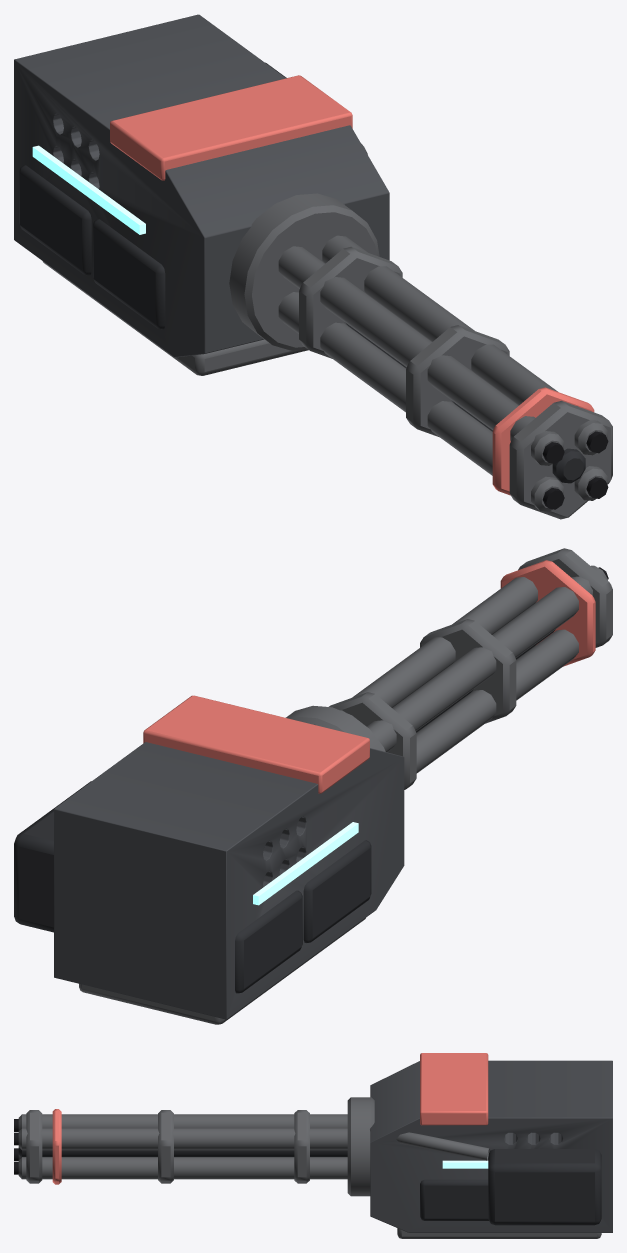
Rendered from vulcanPod.glb.
3 views of the same model, one above another, from view 1: azimuth 30°, elevation 25°; view 2: azimuth 150°, elevation 25°; view 3: azimuth 270°, elevation 25° (orthographic). The views are drawn at different scales.
Parts seen in each view (by area): view 1: housing, stripe.004, collar.001, barrel.014, barrel.015, barrel.013, clamp.006, plate.038, plate.040, clamp.004, clamp.005, clampBand.001 (+3 smaller); view 2: housing, stripe.004, barrel.014, barrel.015, barrel.013, plate.040, ammoBox, plate.038, clamp.005, clampBand.001, clamp.004, clamp.006 (+3 smaller); view 3: housing, ammoBox, barrel.013, barrel.016, stripe.004, barrel.014, plate.041, collar.001, hub.002, base, hose.006, clamp.006 (+4 smaller).
Boxes of the visible parts, <box> form: housing: <box>14,14,389,357</box>; stripe.004: <box>110,75,352,180</box>; collar.001: <box>229,193,379,350</box>; barrel.014: <box>278,246,563,465</box>; barrel.015: <box>278,292,563,511</box>; barrel.013: <box>322,235,607,455</box>; clamp.006: <box>509,400,612,519</box>; plate.038: <box>19,165,91,275</box>; plate.040: <box>93,219,165,329</box>; clamp.004: <box>299,246,402,358</box>; clamp.005: <box>406,325,509,437</box>; clampBand.001: <box>492,387,594,495</box>; housing: <box>54,742,404,1019</box>; stripe.004: <box>143,695,369,793</box>; barrel.014: <box>367,565,607,752</box>; barrel.015: <box>416,629,578,773</box>; barrel.013: <box>340,577,537,712</box>; plate.040: <box>303,840,371,943</box>; ammoBox: <box>14,781,91,932</box>; plate.038: <box>235,890,302,993</box>; clamp.005: <box>420,619,516,723</box>; clampBand.001: <box>500,560,595,666</box>; clamp.004: <box>329,692,416,789</box>; clamp.006: <box>518,548,612,647</box>; housing: <box>370,1060,612,1232</box>; ammoBox: <box>488,1149,601,1225</box>; barrel.013: <box>18,1128,347,1150</box>; barrel.016: <box>18,1157,347,1179</box>; stripe.004: <box>420,1053,488,1125</box>; barrel.014: <box>18,1114,347,1130</box>; plate.041: <box>420,1179,488,1220</box>; collar.001: <box>347,1097,374,1196</box>; hub.002: <box>18,1147,347,1157</box>; base: <box>397,1228,601,1238</box>; hose.006: <box>370,1129,489,1160</box>; clamp.006: <box>26,1110,42,1183</box>.
Size of the model in its own units: 0.805 by 0.655 by 2.64.
